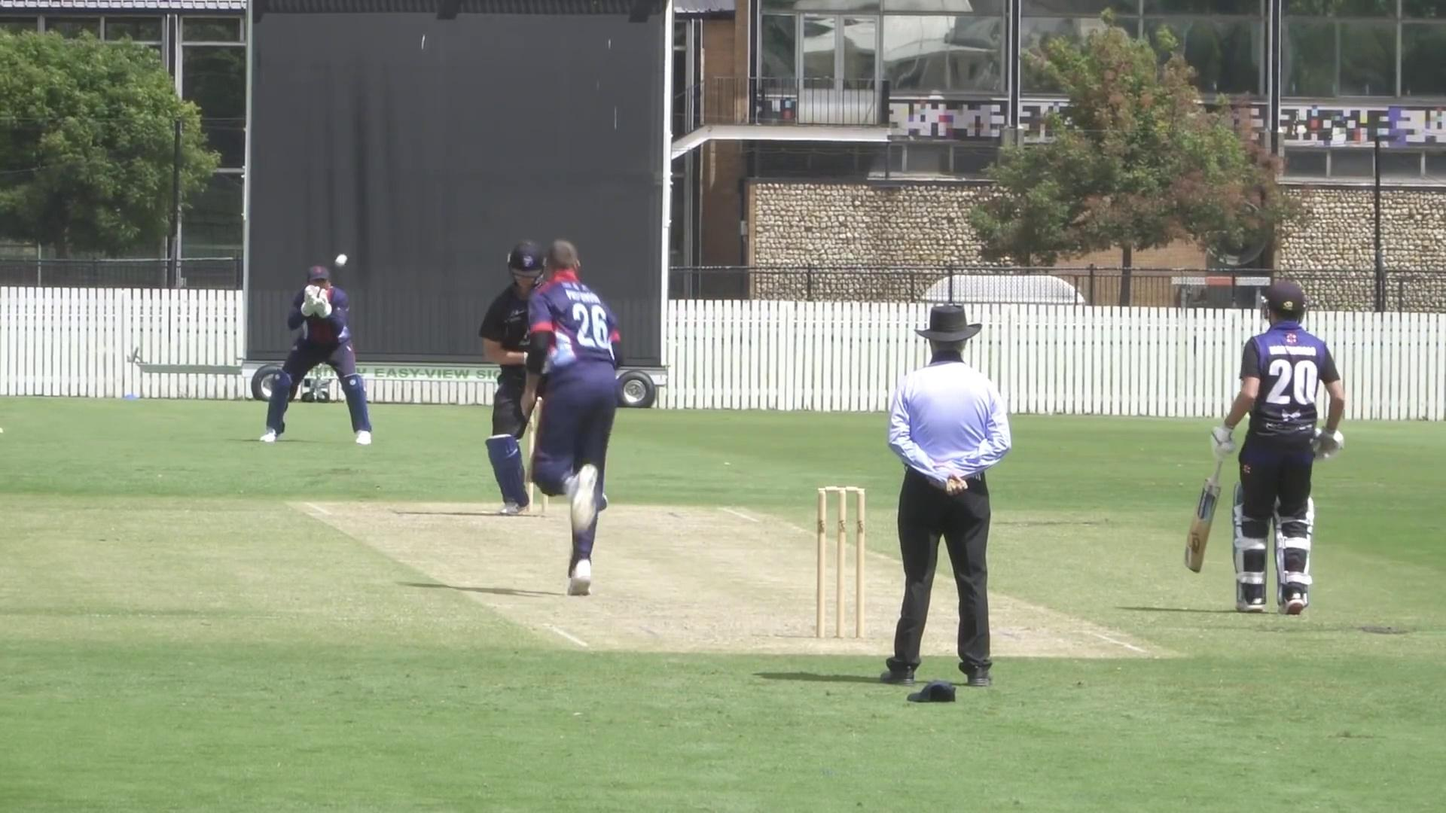ball: (332, 250, 351, 270)
